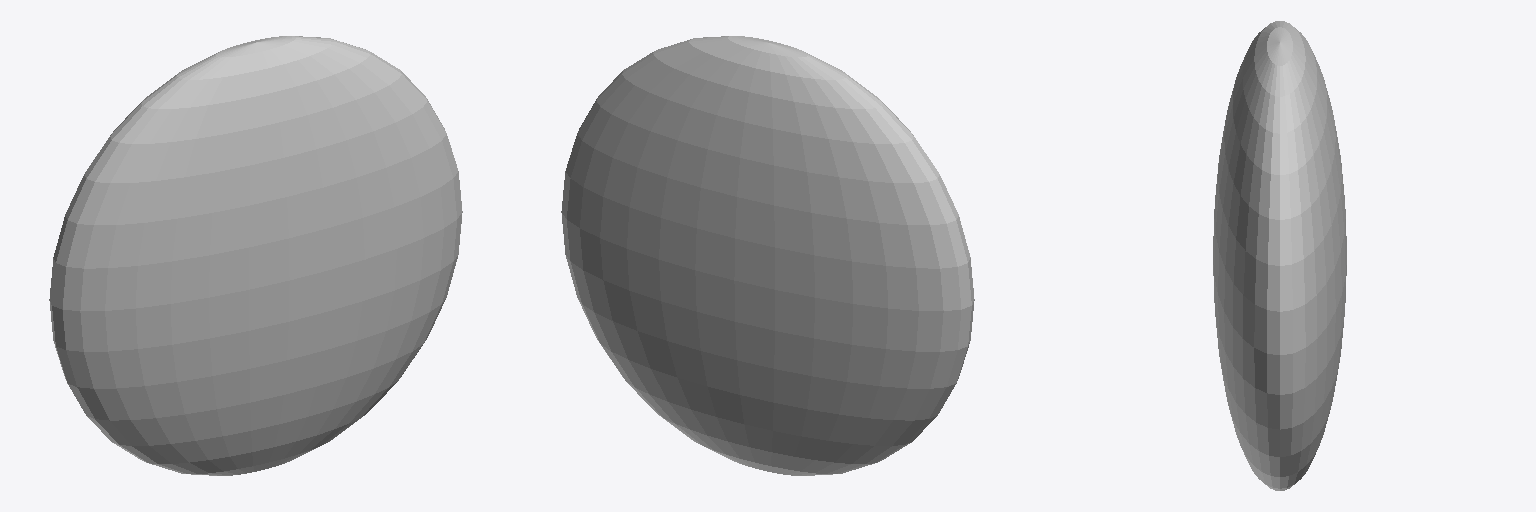
Rendered from target.obj.
3 renders of one model, left to right at view 1: azimuth 30°, elevation 25°; view 2: azimuth 150°, elevation 25°; view 3: azimuth 270°, elevation 25°, orthographic.
Visible parts, largest first — view 1: Sphere; view 2: Sphere; view 3: Sphere.
Part boxes in pixels (left/top/right/bottom): Sphere: left=49, top=36, right=462, bottom=475; Sphere: left=561, top=36, right=974, bottom=475; Sphere: left=1213, top=21, right=1346, bottom=490.
Bounding box in the file's own units: 5.53 × 5.53 × 1.58.